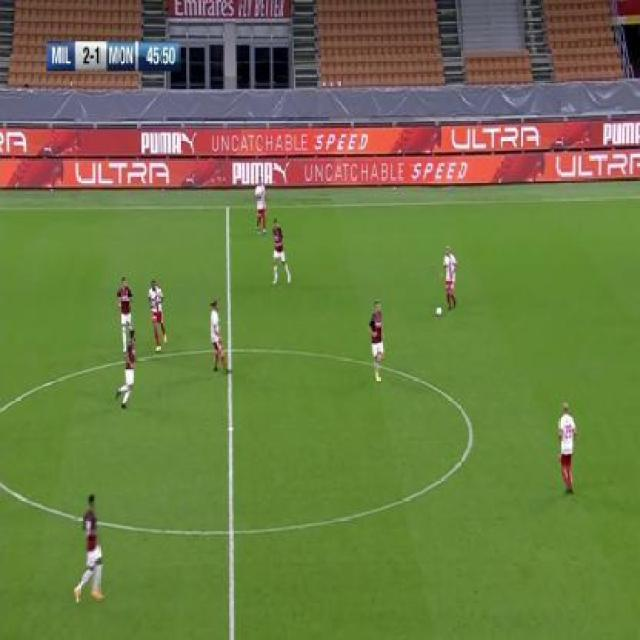ball: (434, 303, 443, 319)
player: (73, 496, 106, 610), (556, 398, 578, 497), (115, 326, 137, 408), (147, 275, 169, 351), (270, 217, 293, 288), (367, 299, 386, 384), (209, 298, 229, 374), (118, 274, 137, 351), (440, 243, 459, 312), (254, 176, 268, 239)
